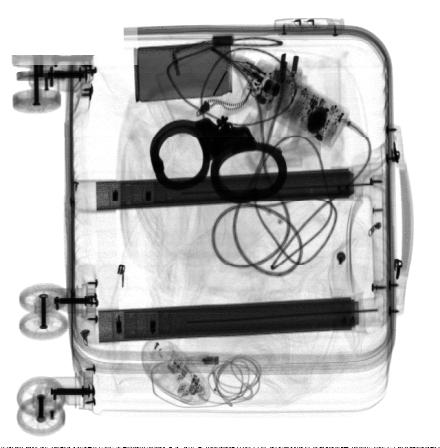HandCuffs: (148, 113, 288, 204)
